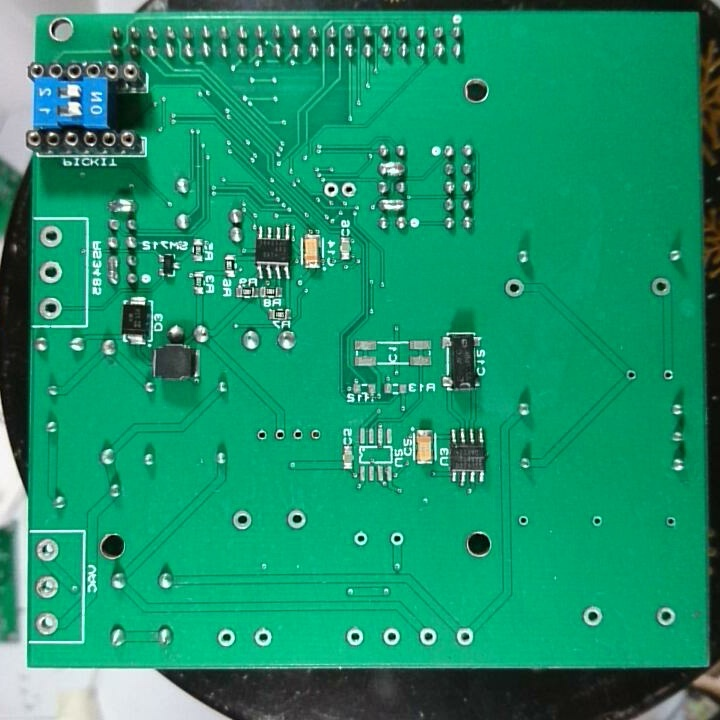F: (36, 223, 66, 252), (33, 610, 62, 638), (32, 573, 61, 601), (37, 295, 65, 322), (37, 259, 65, 286), (34, 535, 60, 564), (579, 602, 605, 630), (653, 604, 678, 632), (379, 623, 404, 649), (230, 507, 254, 534), (285, 506, 308, 534), (648, 275, 673, 299), (251, 625, 275, 649), (453, 624, 475, 649), (214, 627, 239, 649), (502, 277, 525, 300), (417, 625, 439, 649), (343, 624, 365, 647), (388, 528, 407, 549), (321, 180, 341, 198), (588, 512, 607, 530), (351, 529, 369, 548), (339, 180, 355, 201), (622, 364, 639, 383), (662, 512, 679, 531), (271, 425, 288, 444), (659, 366, 676, 384), (307, 426, 324, 444), (288, 426, 306, 443), (254, 426, 270, 444), (516, 512, 531, 530)
P: (375, 159, 408, 180), (107, 196, 139, 215), (376, 196, 408, 213), (105, 251, 120, 286)
